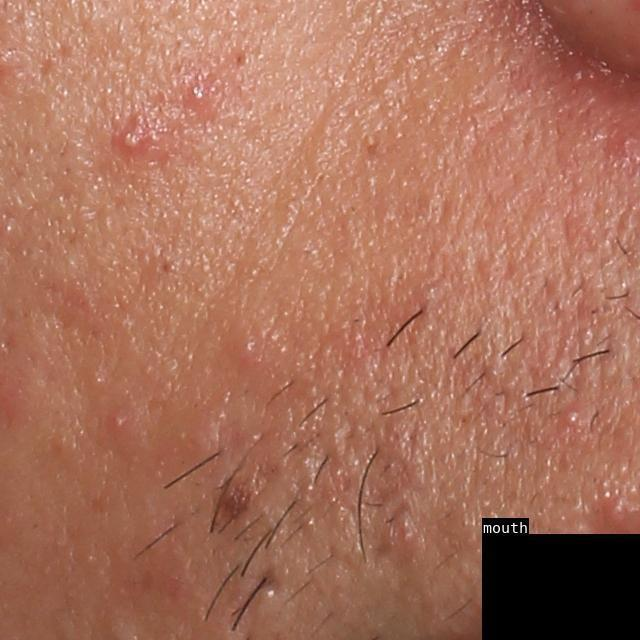comedo: (148, 255, 180, 281), (108, 411, 128, 435), (563, 409, 583, 428)
papule: (183, 78, 212, 109)
pustule: (115, 128, 150, 156)
